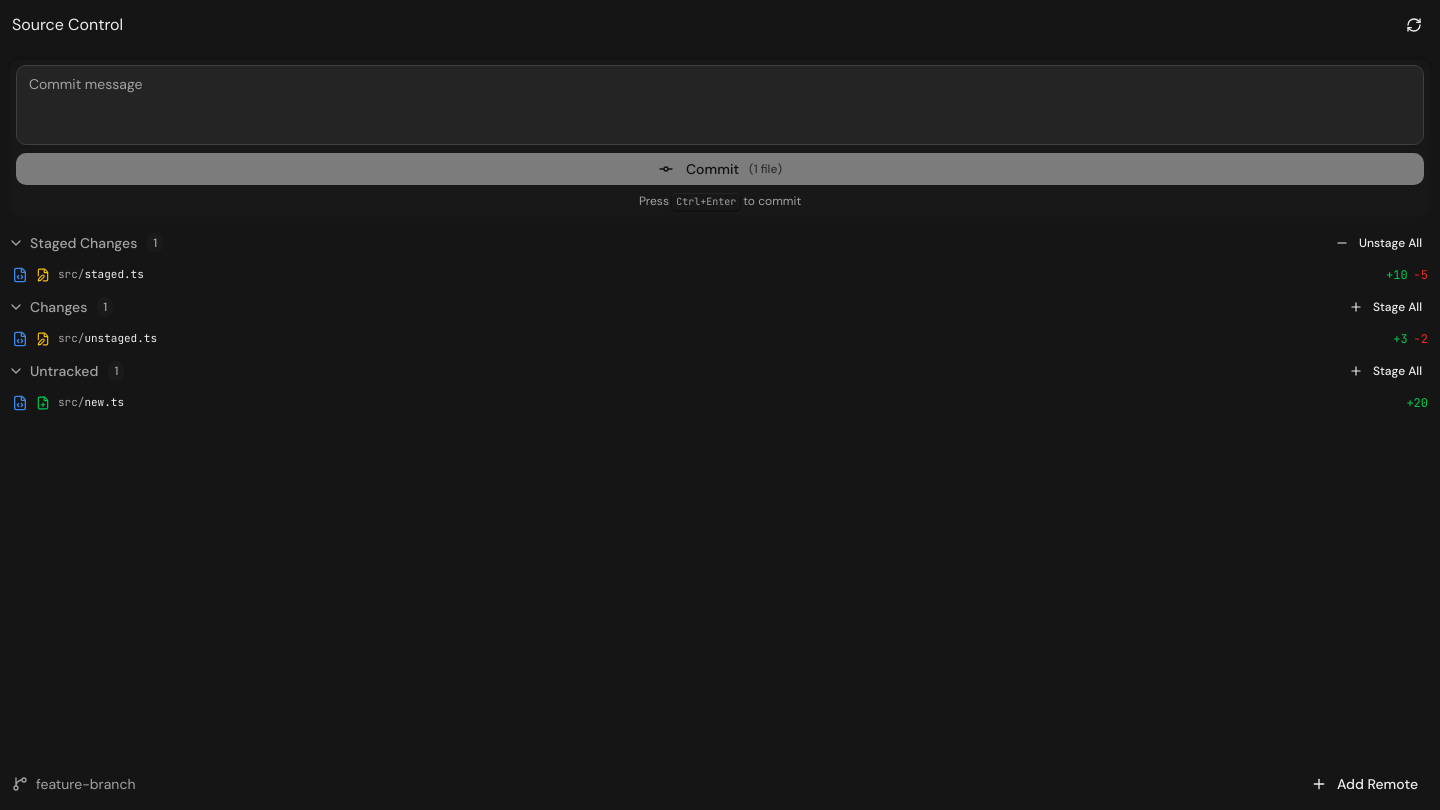
SourceControlPane › add remote dialog › opens add remote dialog when no remote
Step 1. Click the button with test id "add-remote-button" → (1364,784), box [1301,766,1428,802]
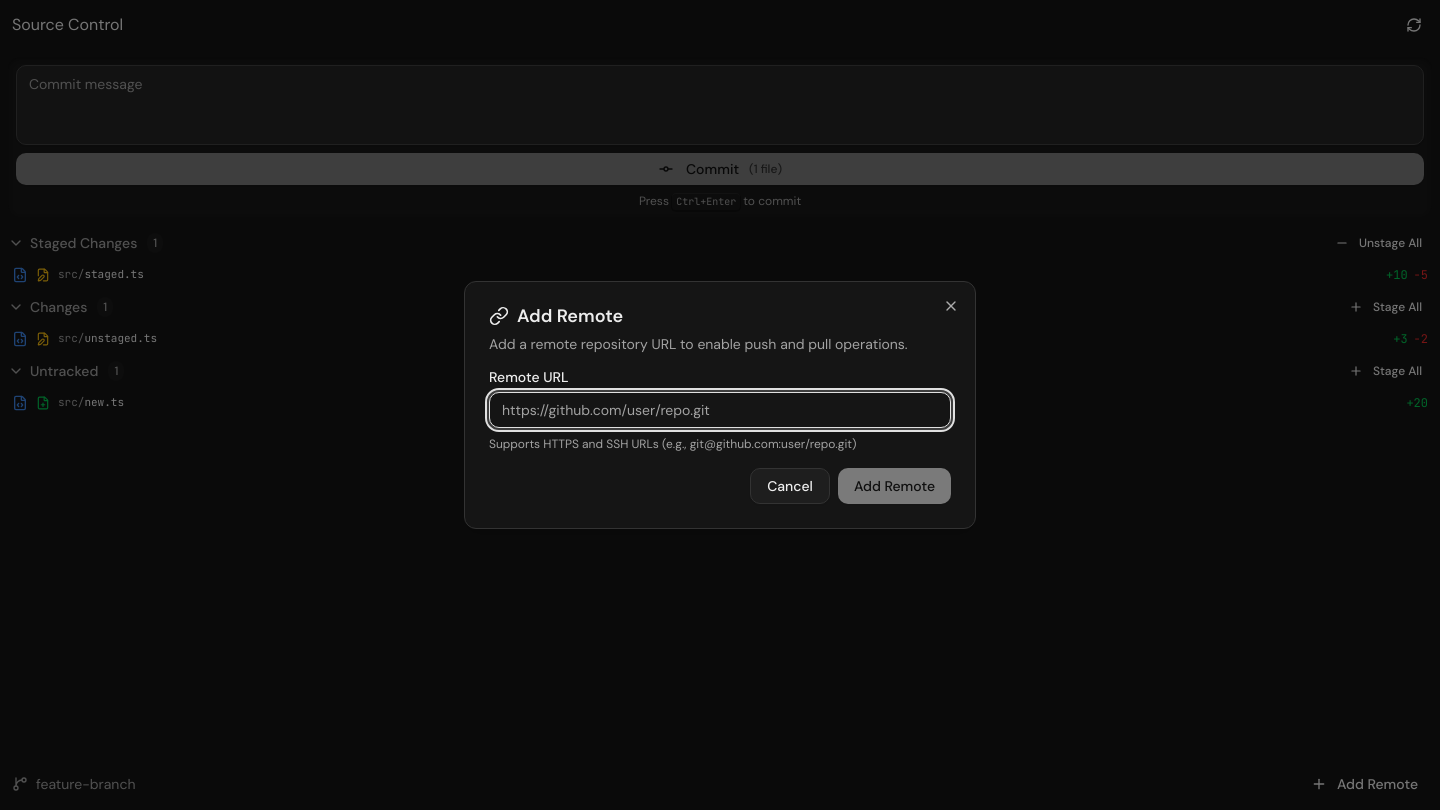
Now the dialog with test id "add-remote-dialog" is shown, box [464,281,976,529]
